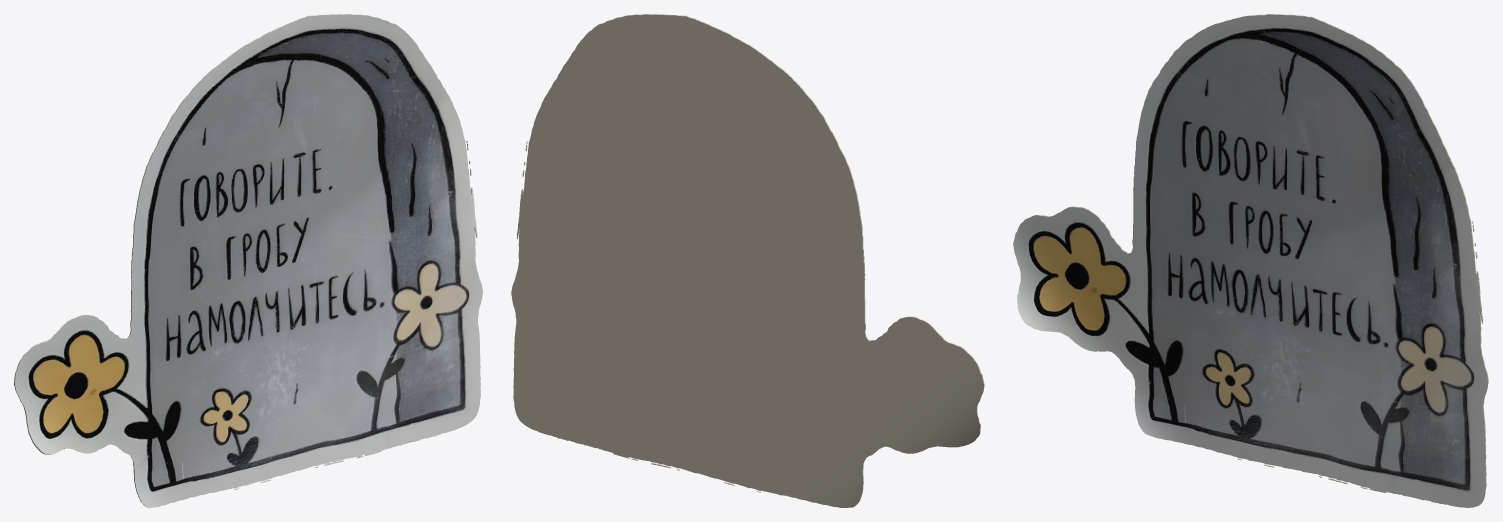
The model's file is new-11-gravestone.glb.
3 renders of one model, left to right at view 1: azimuth 30°, elevation 25°; view 2: azimuth 150°, elevation 25°; view 3: azimuth 330°, elevation 25°, orthographic.
Visible parts, largest first — view 1: new-11-gravestone / thin printed sticker; view 2: new-11-gravestone / thin printed sticker; view 3: new-11-gravestone / thin printed sticker.
Part boxes in pixels (x1,y1,x2,y2): new-11-gravestone / thin printed sticker: (14,14,482,507); new-11-gravestone / thin printed sticker: (511,14,984,507); new-11-gravestone / thin printed sticker: (1013,14,1488,507).
Bounding box in the file's own units: 2.32 × 2.15 × 0.0851.
Materials: 2 (1 with a texture image).
